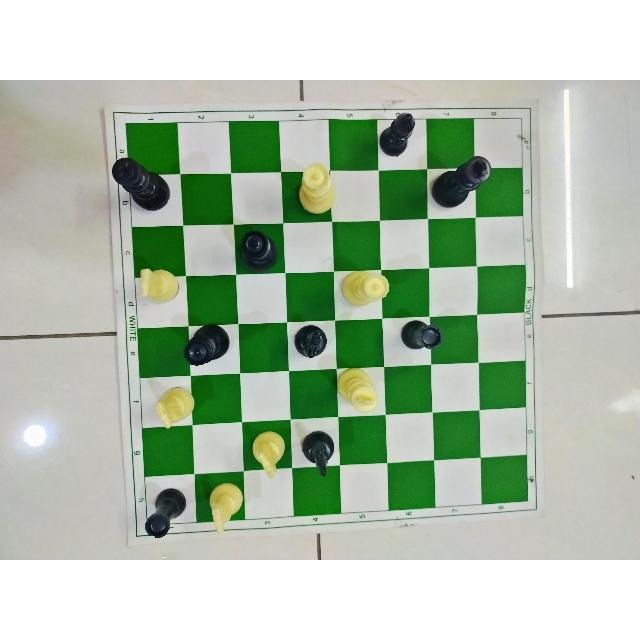black-bishop: (376, 107, 422, 167)
black-king: (107, 153, 174, 216), (428, 148, 494, 210)
black-knight: (299, 429, 335, 479), (288, 322, 332, 362)
black-queen: (179, 317, 233, 369), (238, 225, 283, 275)
black-rook: (140, 479, 194, 545), (393, 318, 447, 357)
white-king: (332, 362, 379, 417)
white-knight: (202, 476, 246, 542), (153, 383, 203, 437), (245, 425, 290, 480), (136, 262, 184, 312)
white-queen: (293, 158, 338, 221), (335, 264, 394, 312)
